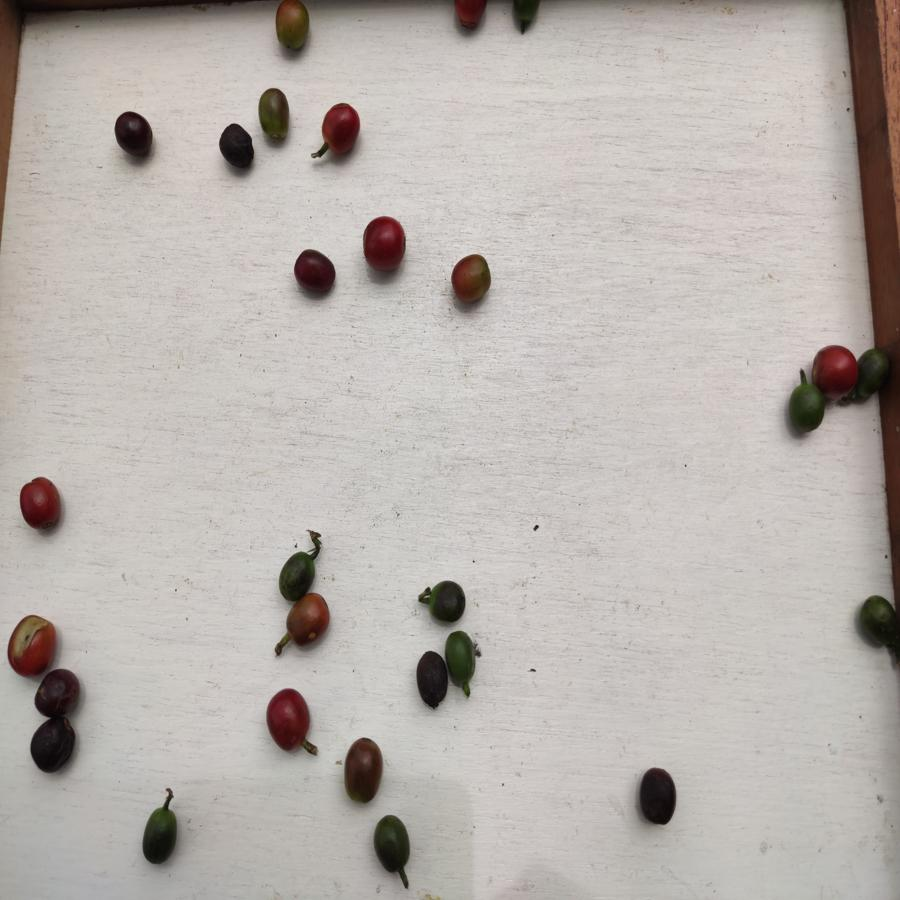Inmaduro: (372, 813, 411, 877), (445, 627, 480, 694), (141, 808, 180, 863), (423, 580, 466, 625), (278, 551, 315, 597)
Maduro: (263, 687, 315, 752), (6, 613, 56, 676), (362, 216, 410, 276), (20, 475, 66, 529), (812, 344, 859, 395), (320, 104, 363, 156)
Pinton: (343, 733, 385, 807), (285, 595, 334, 649), (272, 2, 317, 55), (449, 251, 491, 303), (259, 87, 296, 142)
Sobremaduro: (638, 767, 679, 832), (29, 718, 78, 772), (109, 109, 158, 161), (216, 123, 259, 180), (412, 648, 447, 714), (293, 248, 339, 295), (35, 671, 81, 717)
